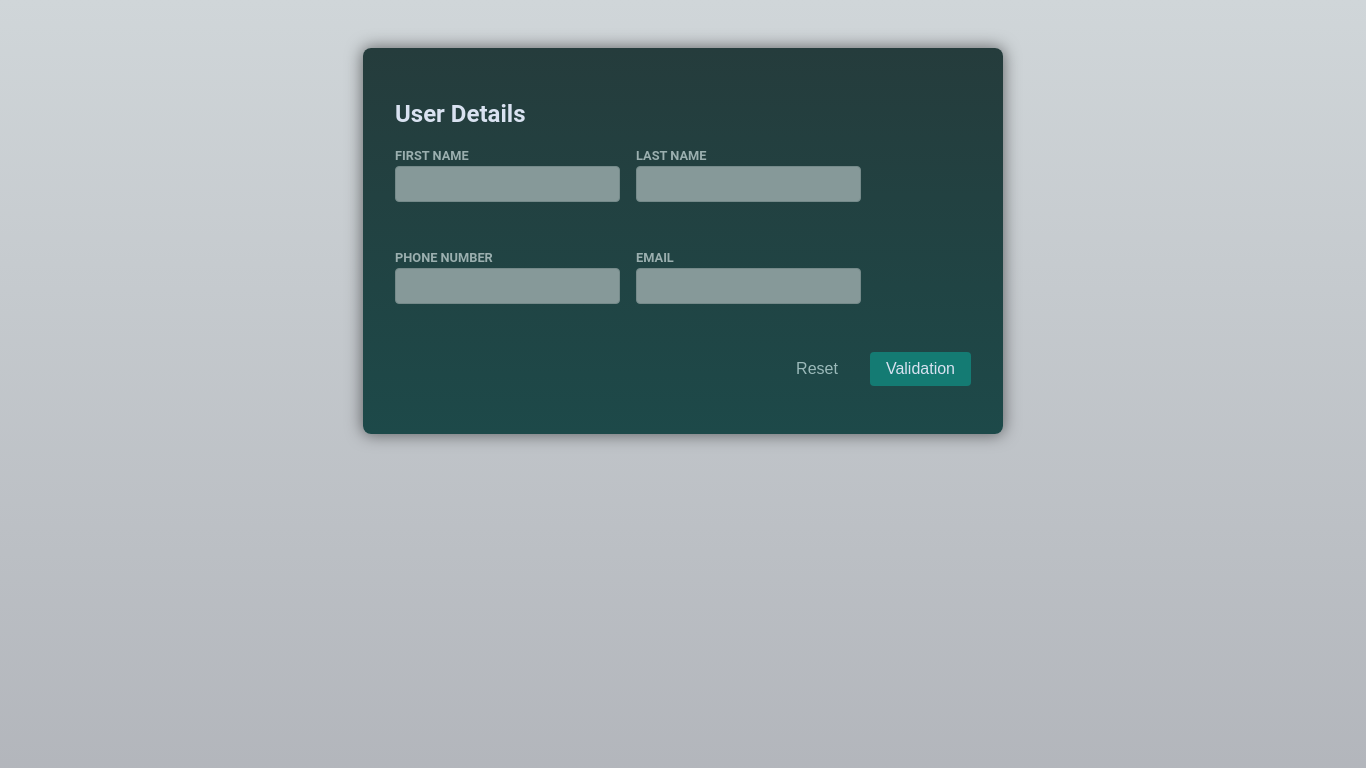
Test: shows error for invalid email
Type "invalid-email" into the field labelled "Email".
click(748, 286); type("invalid-email")  # box top-left (636, 268), bottom-right (861, 304)
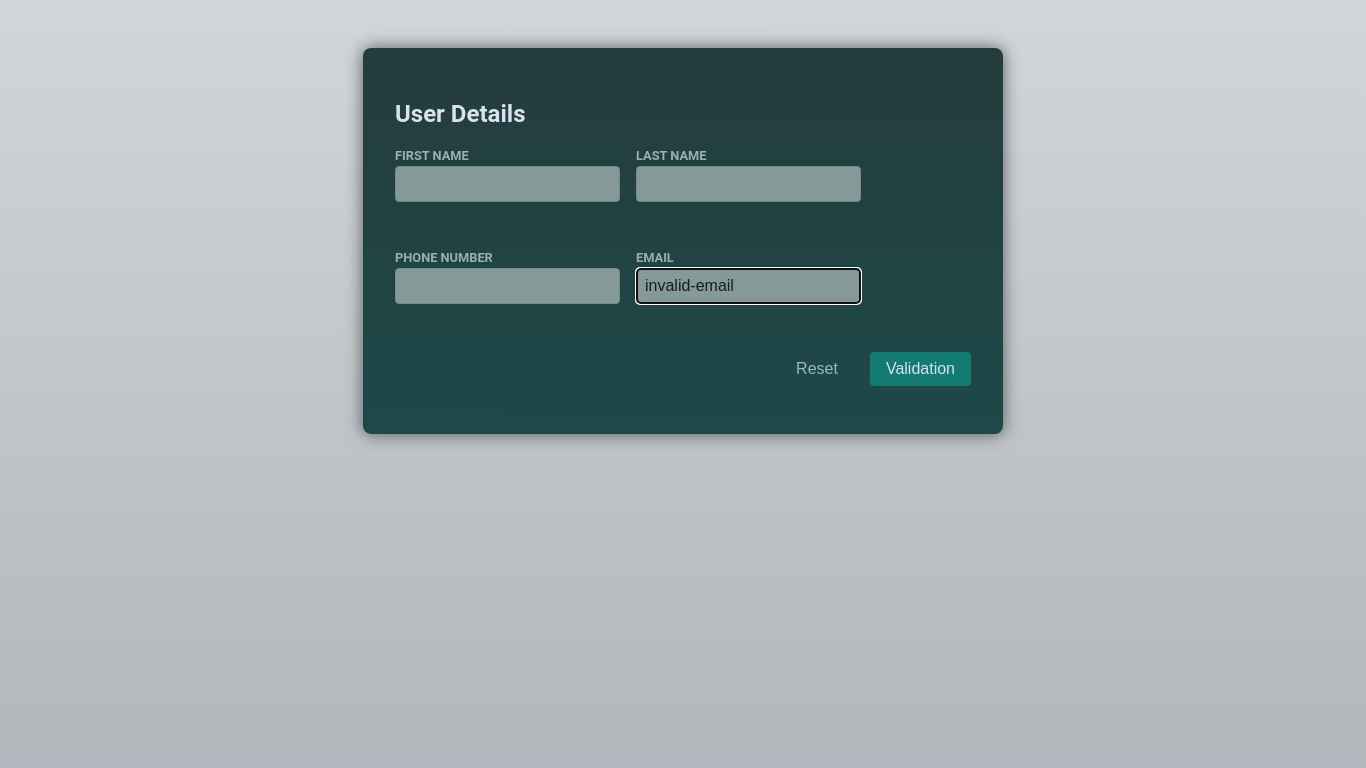
Click the button "Validation".
click(920, 369)  # box top-left (870, 352), bottom-right (971, 386)
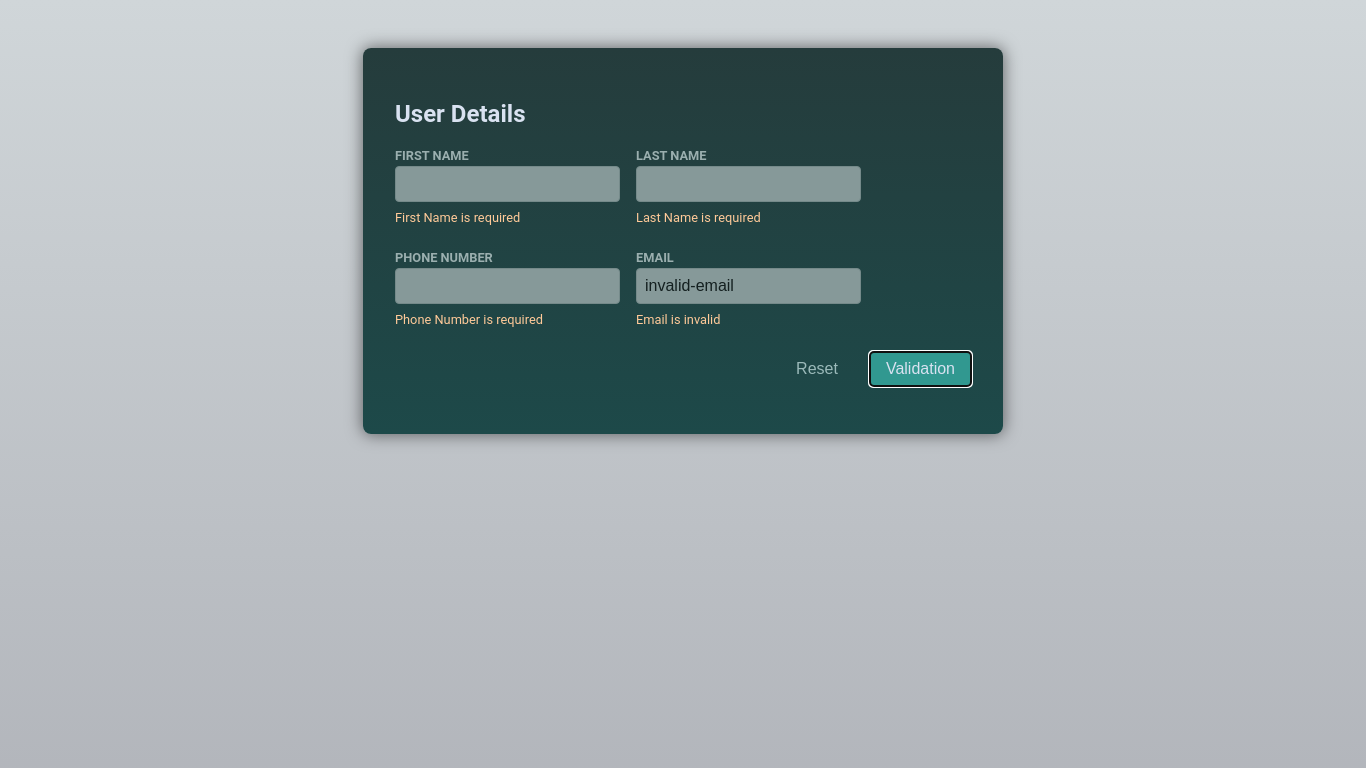
Expected: the text "Email is invalid" is shown, top-left (636, 312), bottom-right (720, 327)
